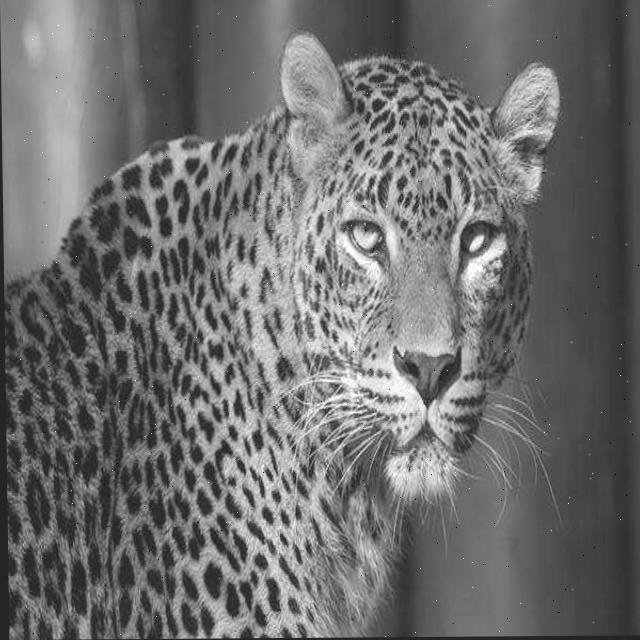Leopard: (95, 80, 575, 581)
